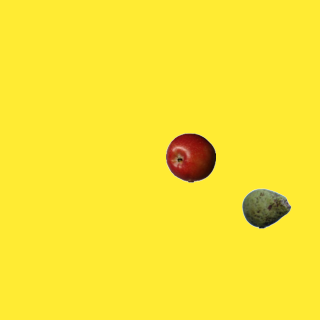Apple Braeburn: (165, 132, 215, 182)
Pear Stone: (241, 183, 291, 233)
